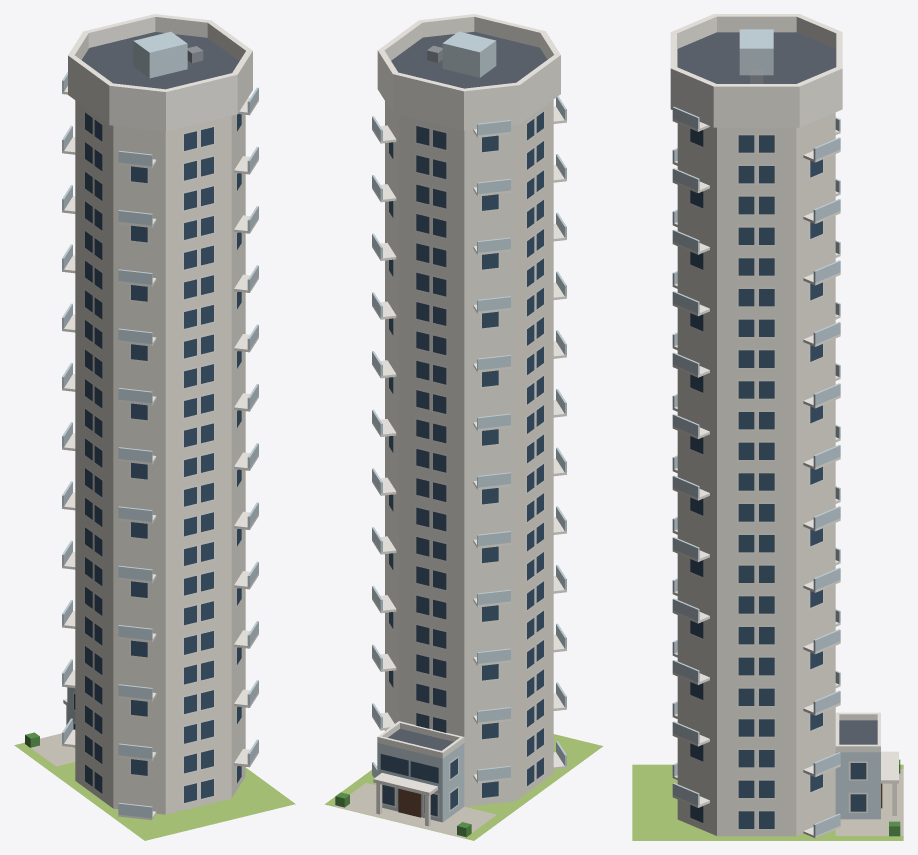
The picture shows the model from 3 angles, left to right: view 1: azimuth 30°, elevation 25°; view 2: azimuth 150°, elevation 25°; view 3: azimuth 270°, elevation 25°; orthographic projection. The views are drawn at different scales.
Visible parts, largest first — view 1: tower, crown, lawn, roof, plant_room, forecourt; view 2: tower, crown, roof (×2), pavilion, lawn, forecourt, plant_room, canopy, door, parapet; view 3: tower, crown, roof (×2), lawn, pavilion, forecourt, plant_room, canopy.
Boxes of the visible parts, x1=… form: tower: x1=75, y1=100, x2=245, y2=814; crown: x1=68, y1=14, x2=252, y2=131; lawn: x1=14, y1=743, x2=295, y2=840; roof: x1=82, y1=32, x2=239, y2=89; plant_room: x1=133, y1=31, x2=187, y2=78; forecourt: x1=24, y1=733, x2=75, y2=766; tower: x1=385, y1=100, x2=553, y2=806; crown: x1=377, y1=14, x2=560, y2=130; roof (×2): x1=388, y1=31, x2=547, y2=750; pavilion: x1=377, y1=743, x2=464, y2=822; lawn: x1=324, y1=734, x2=603, y2=840; forecourt: x1=334, y1=783, x2=496, y2=838; plant_room: x1=442, y1=31, x2=496, y2=77; canopy: x1=373, y1=773, x2=437, y2=795; door: x1=398, y1=788, x2=421, y2=817; parapet: x1=377, y1=736, x2=444, y2=758; tower: x1=677, y1=112, x2=835, y2=836; crown: x1=670, y1=14, x2=842, y2=127; roof (×2): x1=677, y1=32, x2=877, y2=744; lawn: x1=632, y1=764, x2=903, y2=840; pavilion: x1=835, y1=752, x2=880, y2=819; forecourt: x1=835, y1=769, x2=903, y2=835; plant_room: x1=739, y1=29, x2=773, y2=75; canopy: x1=881, y1=751, x2=898, y2=783.
Bounding box in the file's own units: 16 × 74.6 × 24.
